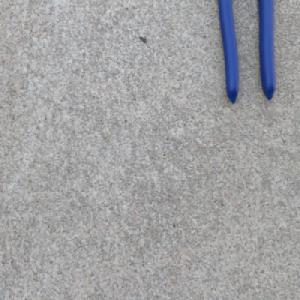Pliers: (217, 0, 278, 104)
